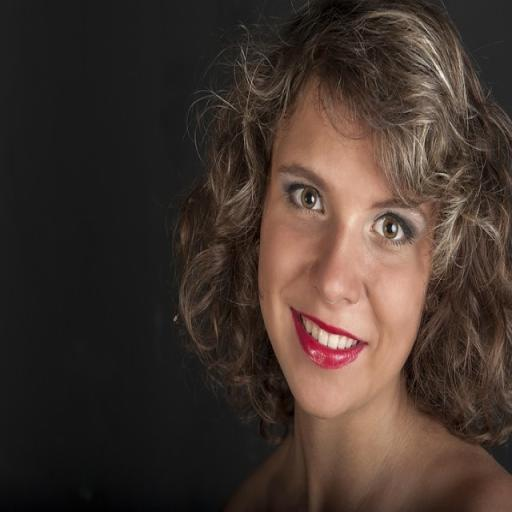lipstick: (292, 309, 366, 368)
